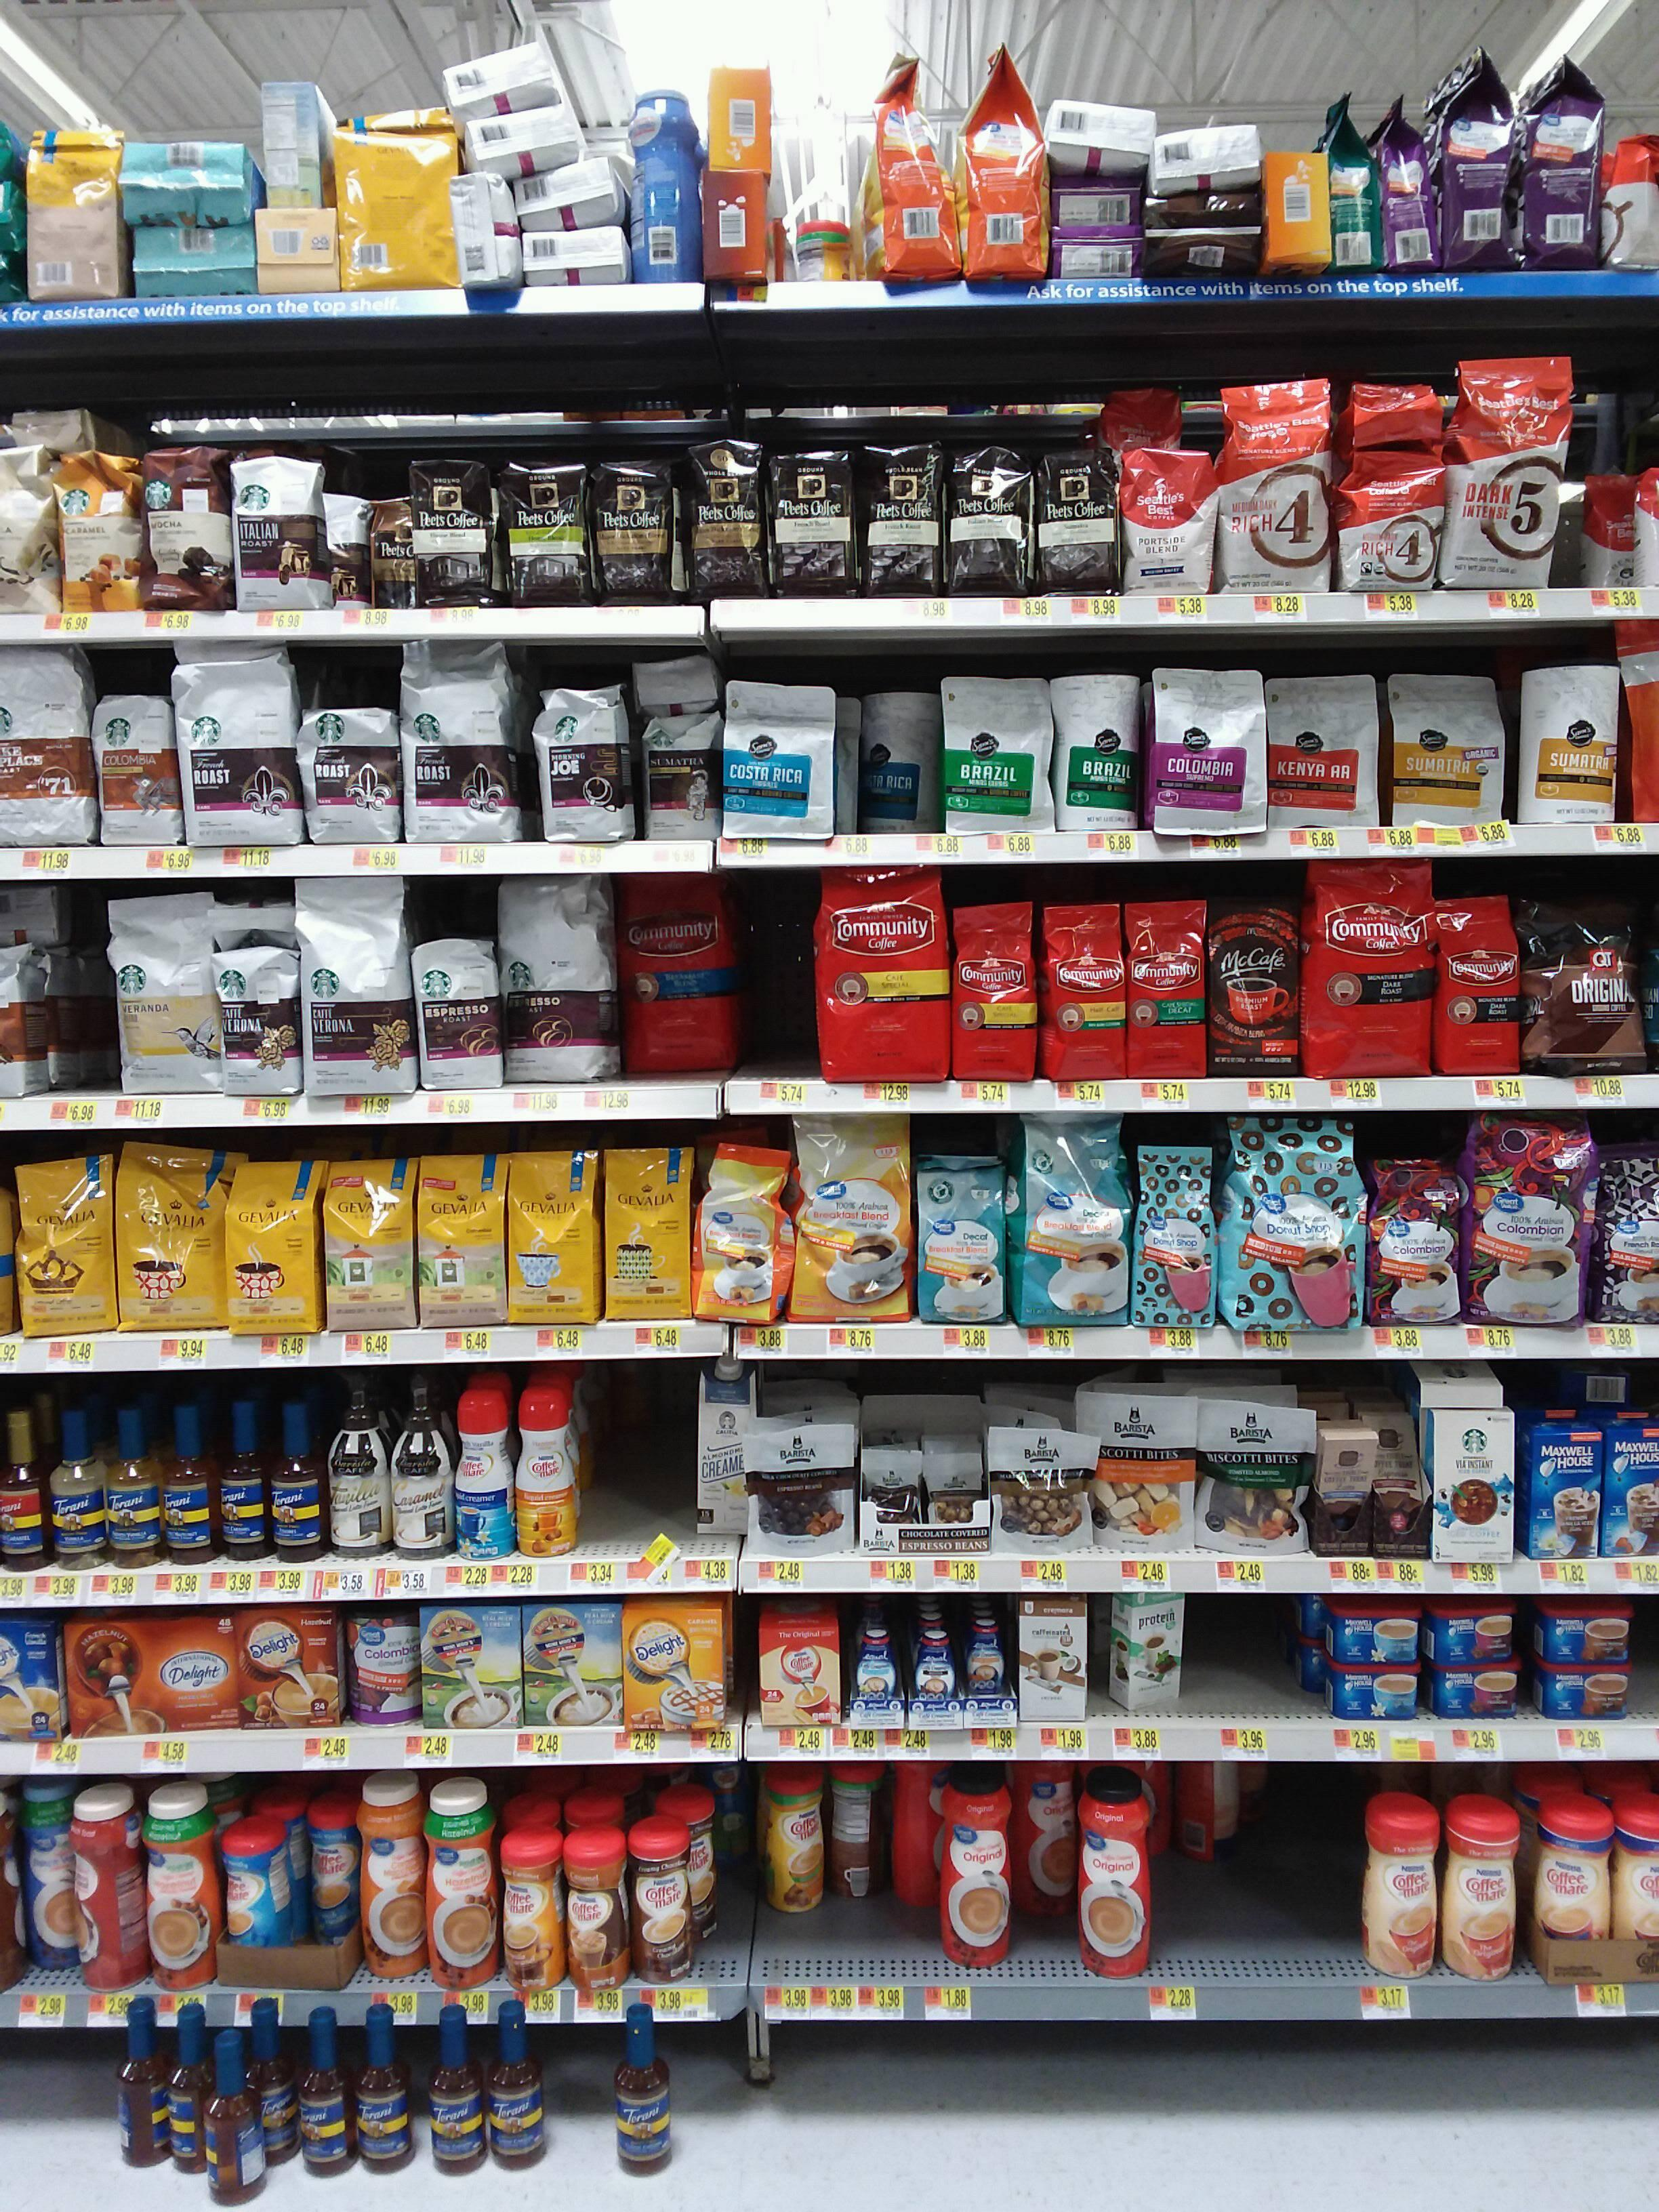empty: (732, 883, 814, 1082), (589, 1364, 685, 1531), (1262, 1777, 1351, 1946), (1192, 1599, 1284, 1709)
misalignment: (439, 57, 622, 294), (1094, 1595, 1183, 1714), (1321, 1404, 1382, 1534)
